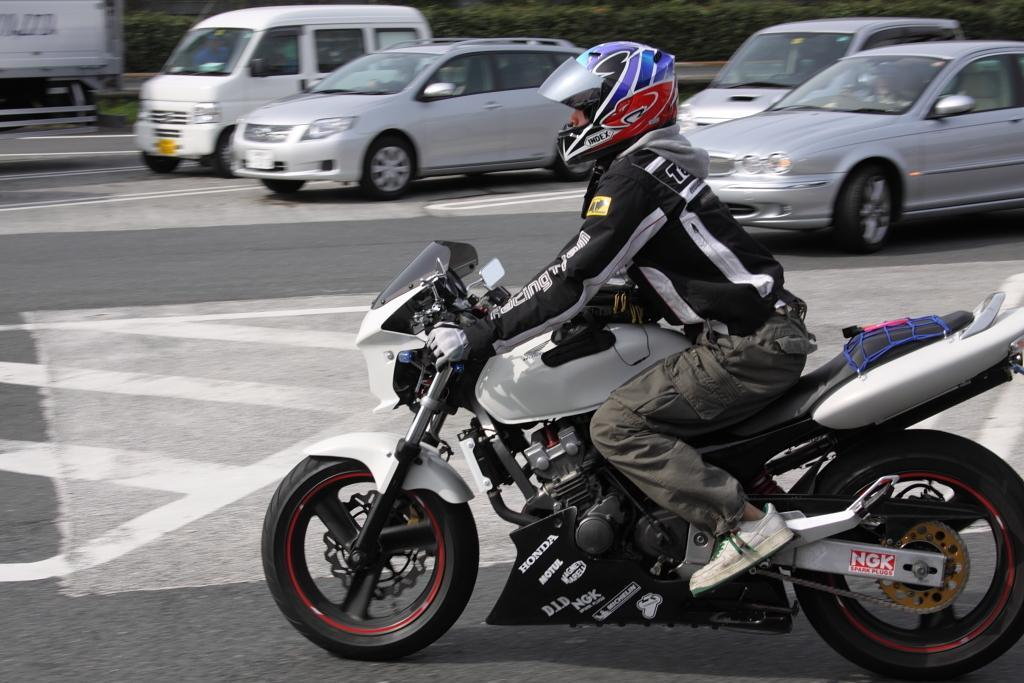helmet: (536, 39, 681, 174)
